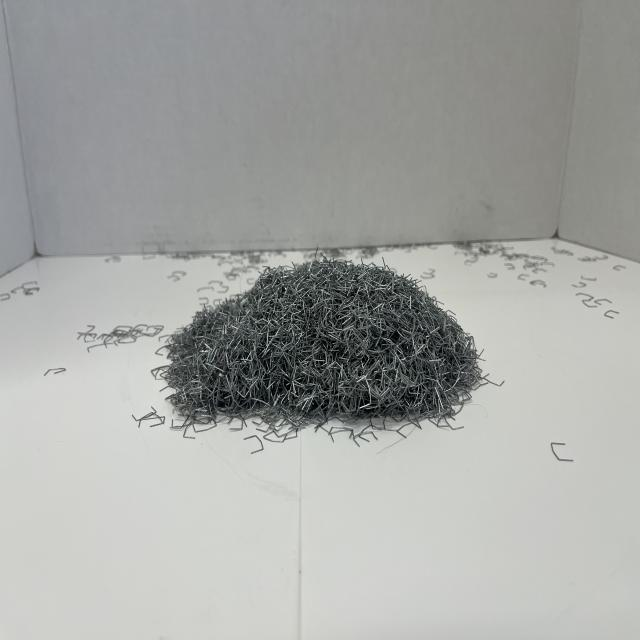staples: (152, 253, 500, 435)
